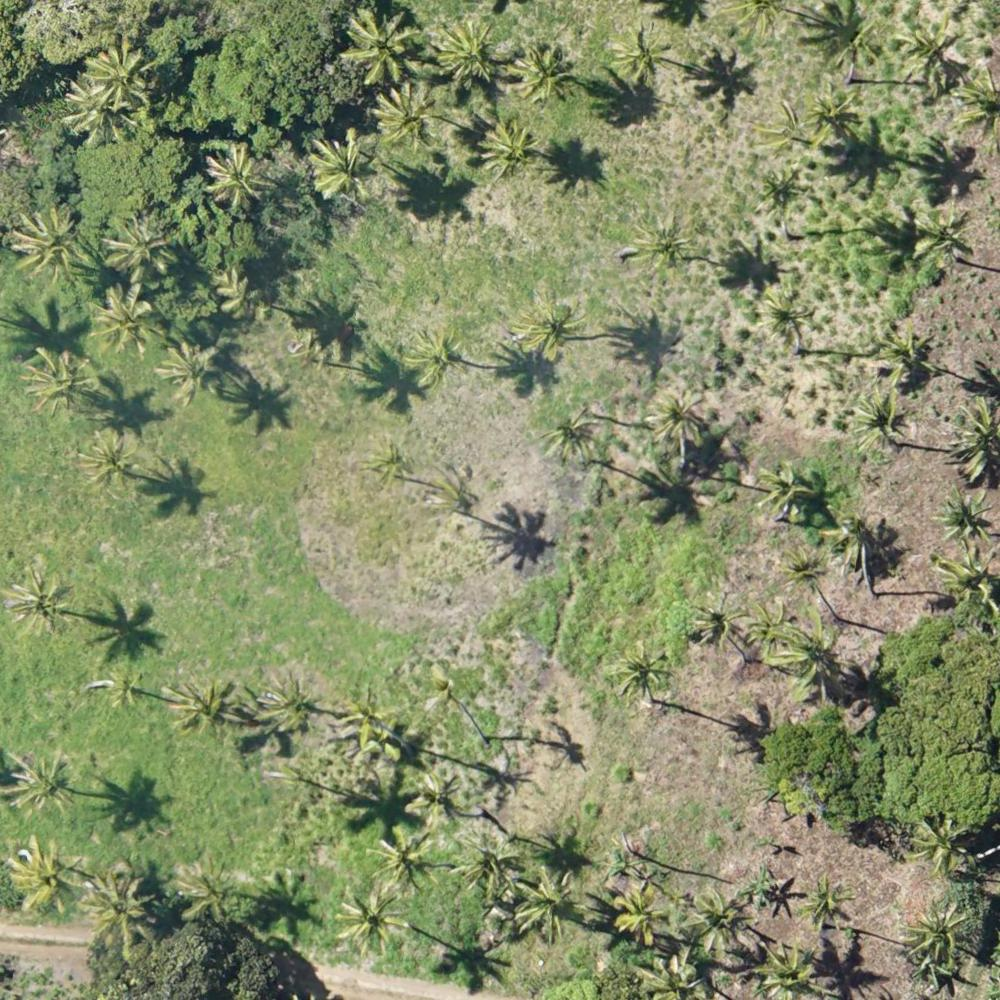Palm: (8, 834, 82, 918), (82, 873, 154, 956), (341, 10, 420, 82), (776, 625, 854, 697), (89, 282, 162, 357), (336, 885, 413, 954), (308, 129, 379, 203), (431, 16, 503, 88), (2, 566, 75, 635), (749, 938, 829, 1000), (13, 210, 85, 278), (904, 900, 974, 966), (9, 748, 74, 818), (166, 676, 239, 738), (375, 85, 442, 152), (516, 867, 579, 938), (367, 828, 441, 888), (87, 43, 154, 109), (25, 348, 92, 414), (103, 214, 172, 277), (339, 685, 406, 749), (518, 297, 584, 361), (457, 829, 521, 895), (67, 82, 135, 144), (900, 23, 962, 91), (690, 886, 755, 949), (75, 435, 142, 496), (172, 863, 239, 924), (163, 341, 224, 406), (208, 144, 272, 205), (255, 674, 315, 739), (907, 209, 975, 266), (757, 286, 816, 349), (936, 546, 995, 609), (512, 44, 572, 104), (540, 407, 601, 466), (937, 488, 996, 549), (612, 642, 674, 700), (478, 124, 541, 180), (636, 219, 695, 277), (916, 813, 973, 873), (649, 391, 707, 449), (879, 324, 935, 384), (807, 85, 865, 142), (408, 328, 465, 386), (611, 882, 668, 939), (758, 459, 816, 515), (850, 393, 905, 450), (690, 595, 747, 648), (747, 598, 802, 652), (637, 957, 706, 1000), (412, 772, 465, 826), (758, 162, 808, 219), (615, 27, 665, 81), (800, 879, 856, 927), (369, 435, 418, 489), (433, 463, 480, 517), (781, 547, 829, 593), (104, 668, 146, 710)
